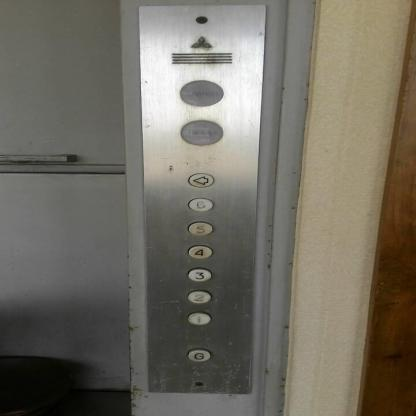1: (185, 310, 211, 325)
2: (186, 288, 211, 304)
3: (186, 267, 212, 281)
4: (186, 244, 213, 258)
5: (186, 221, 212, 236)
6: (186, 197, 213, 211)
G: (186, 347, 210, 361)
text_blur: (178, 79, 224, 107), (178, 119, 223, 145)
unknown: (186, 173, 214, 187)
